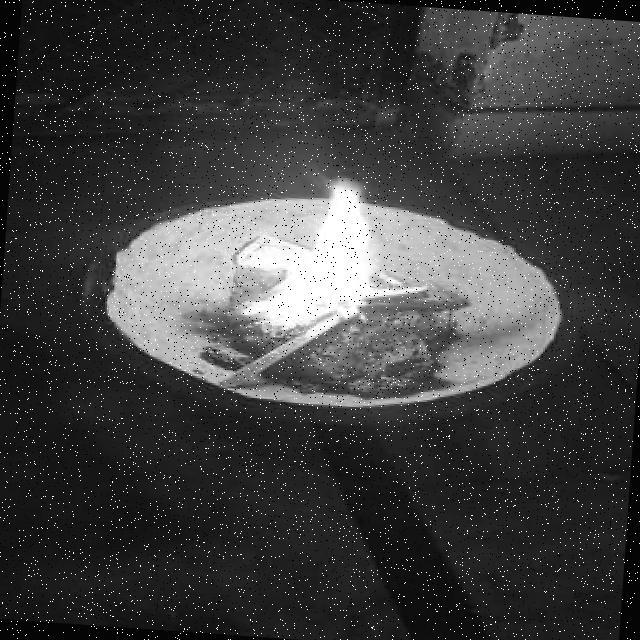Fire: (200, 168, 390, 324)
